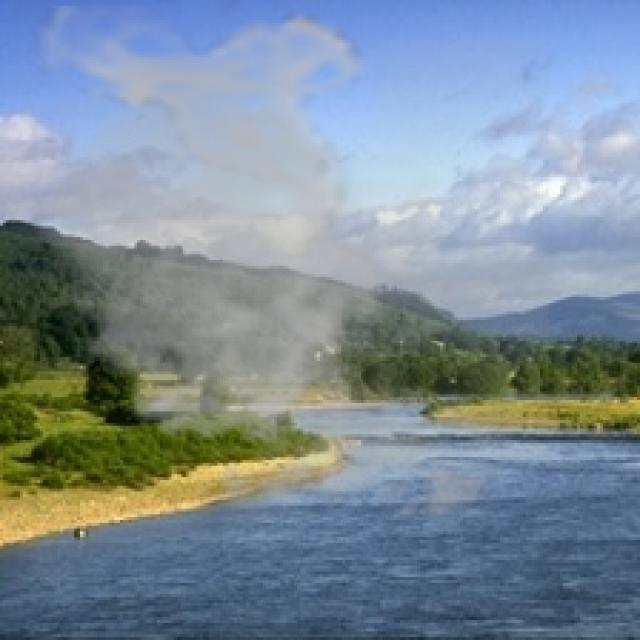Smoke: (11, 5, 548, 538)
